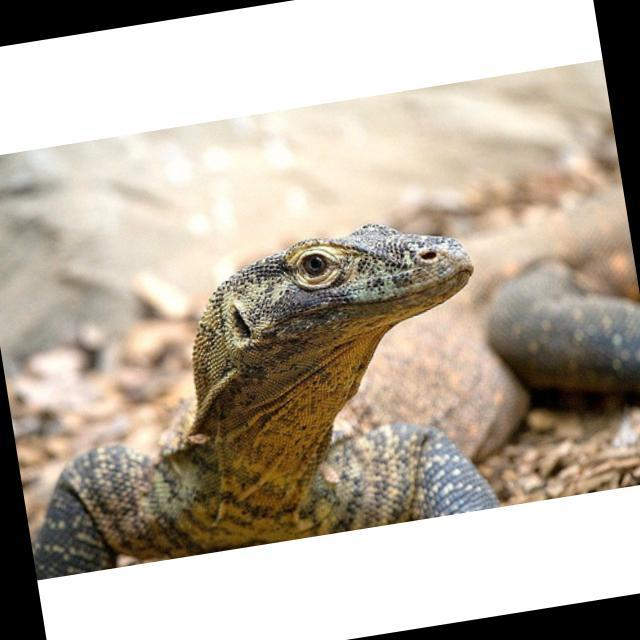KomodoDragon: (0, 184, 640, 576)
